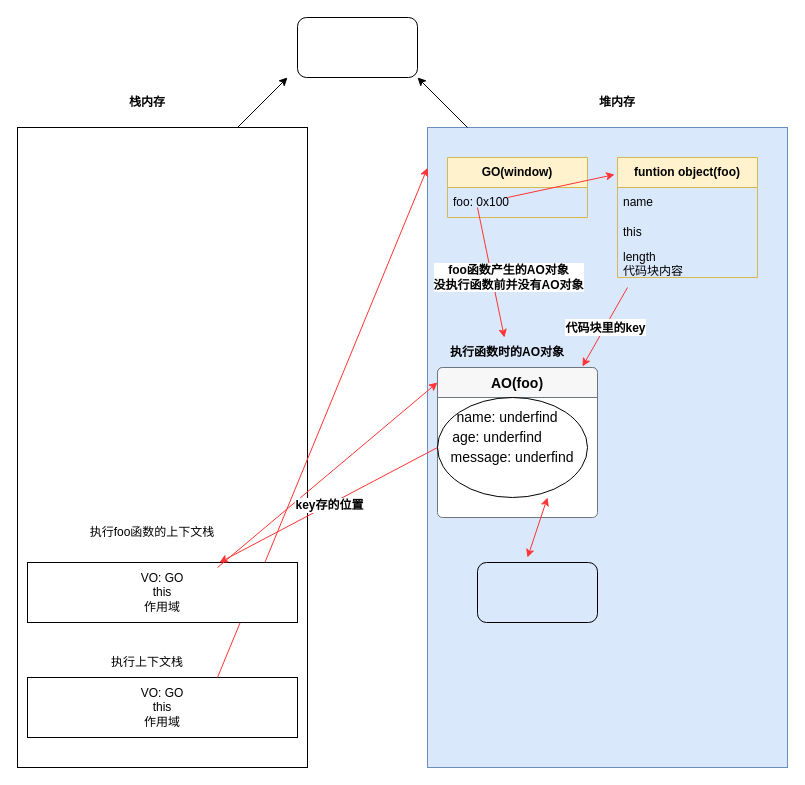
The diagram is 805 pixels wide and 785 high, and some of its shapes have lost their labels. Here are the shapes that lost their labels. From the top down, the centre of each, then its label:
pixel 357 47: 函数执行前流程
pixel 537 592: 用arguments对象作为初始化,key存在的地方
